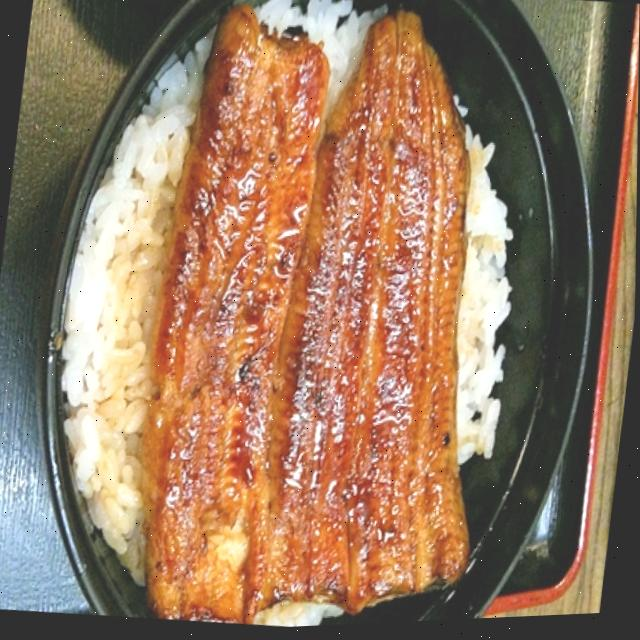熟制海鲜: (23, 0, 599, 639)
